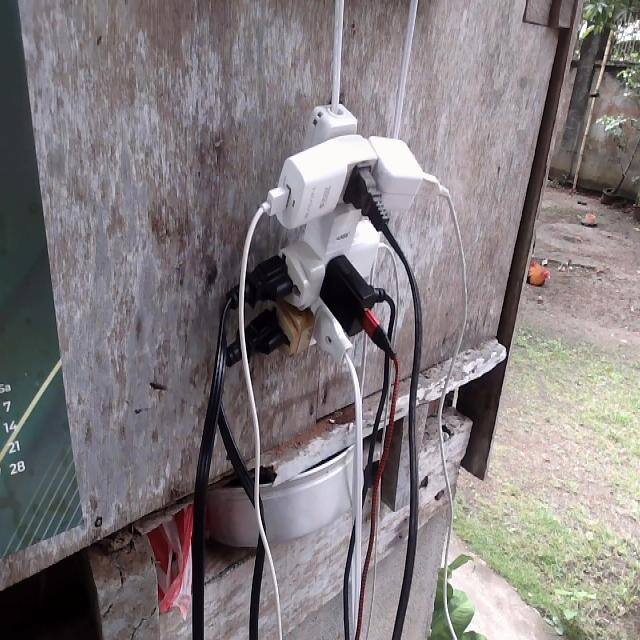-: (231, 97, 425, 368)
